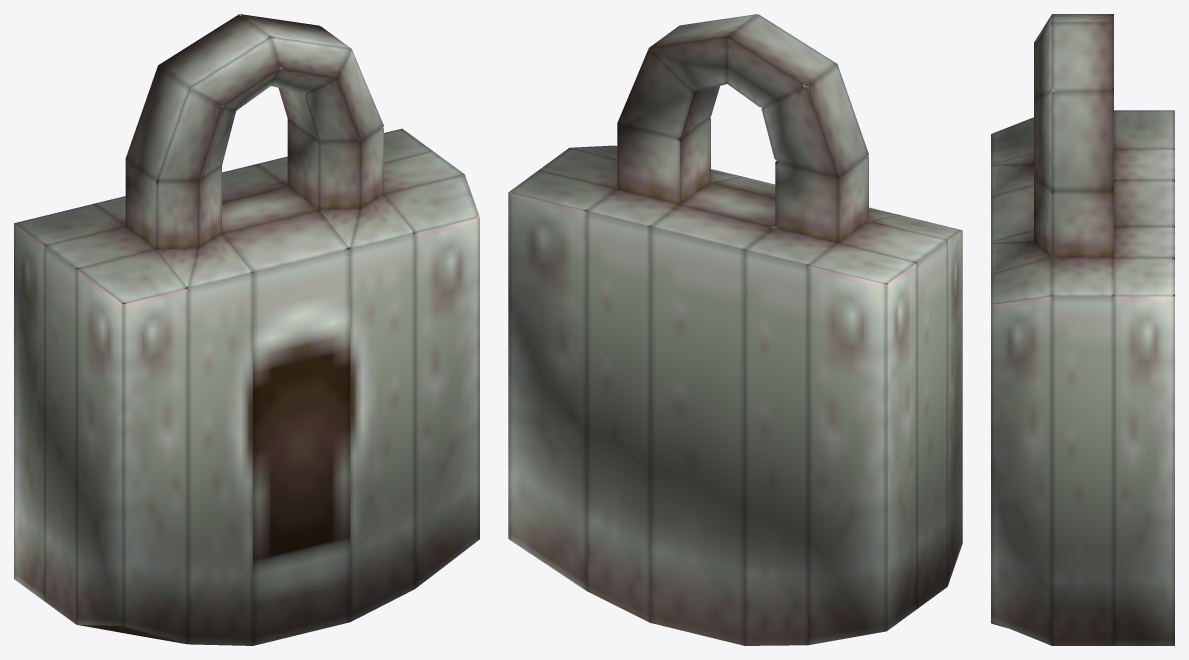
The picture shows the model from 3 angles, left to right: view 1: azimuth 30°, elevation 25°; view 2: azimuth 150°, elevation 25°; view 3: azimuth 270°, elevation 25°; orthographic projection. The views are drawn at different scales.
Parts seen in each view (by area): view 1: T1L6M002_28; view 2: T1L6M002_28; view 3: T1L6M002_28.
Boxes of the visible parts, x1,y1,x2,y2 form: T1L6M002_28: [14, 14, 479, 645]; T1L6M002_28: [508, 14, 962, 645]; T1L6M002_28: [991, 14, 1174, 645].
Bounding box in the file's own units: 0.4795 × 0.6973 × 0.2002.
